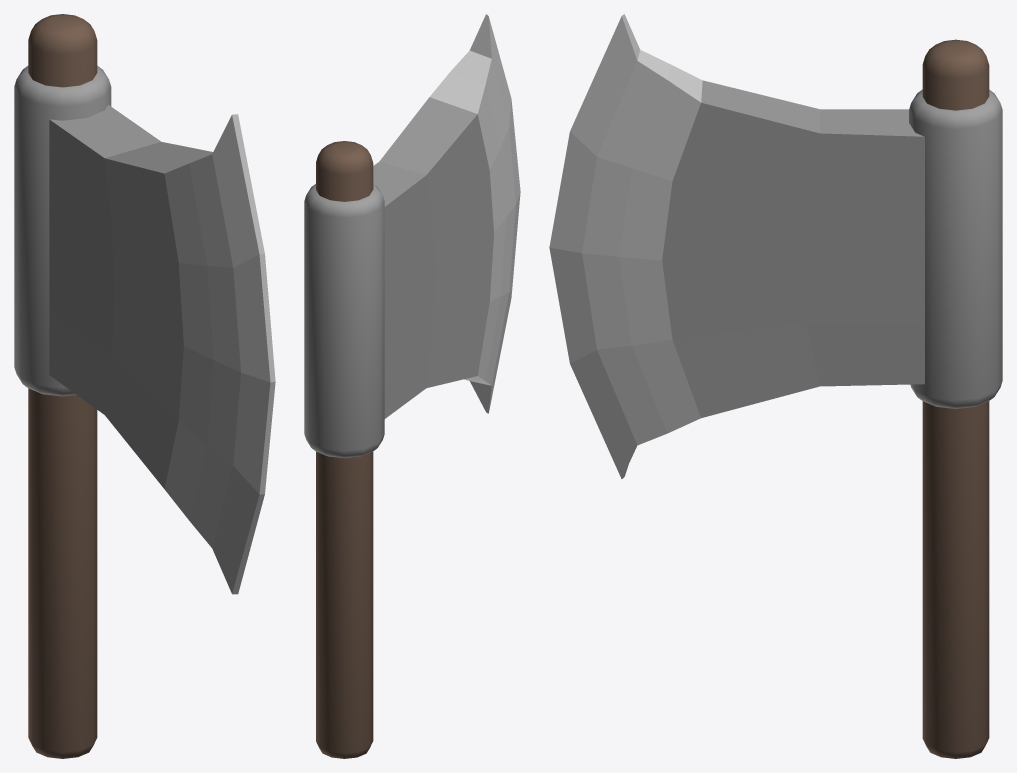
3 renders of one model, left to right at view 1: azimuth 30°, elevation 25°; view 2: azimuth 150°, elevation 25°; view 3: azimuth 270°, elevation 25°, orthographic. The views are drawn at different scales.
Visible parts, largest first — view 1: Ax; view 2: Ax; view 3: Ax.
Boxes of the visible parts, x1=… form: Ax: x1=14, y1=14, x2=275, y2=758; Ax: x1=304, y1=14, x2=520, y2=758; Ax: x1=549, y1=14, x2=1002, y2=758.
Size of the model in its own units: 32.38 by 281 by 157.
